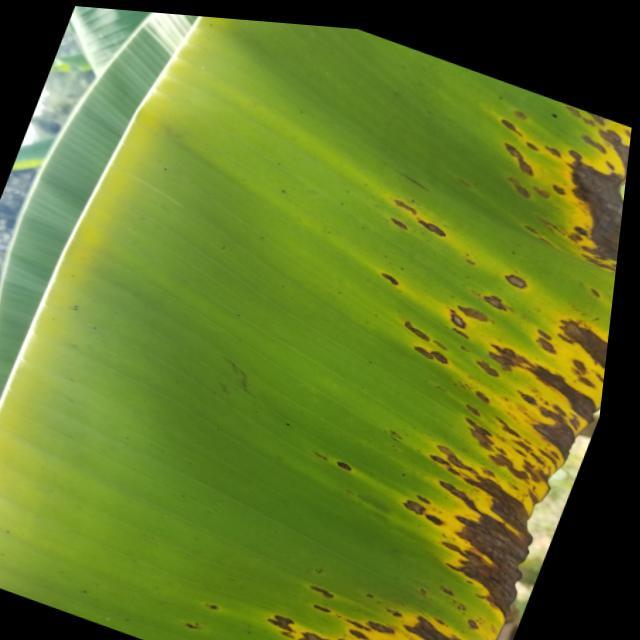Early_rust: (192, 26, 640, 640)
